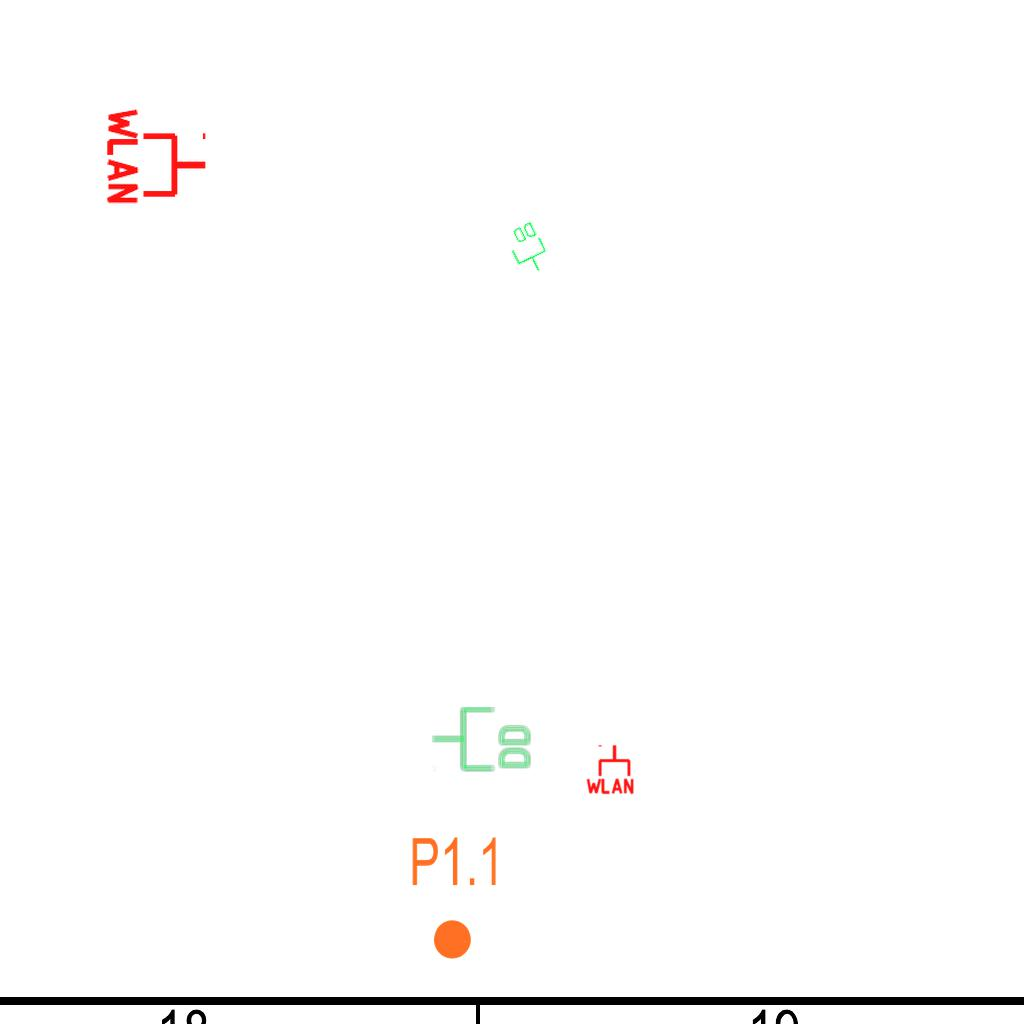Datenanschluss_zweifach: (430, 705, 533, 774), (502, 218, 555, 280)
Downlight_LED_Einbauleuchten_Flur: (409, 834, 502, 962)
WLAN: (105, 104, 210, 208), (584, 743, 636, 795)
